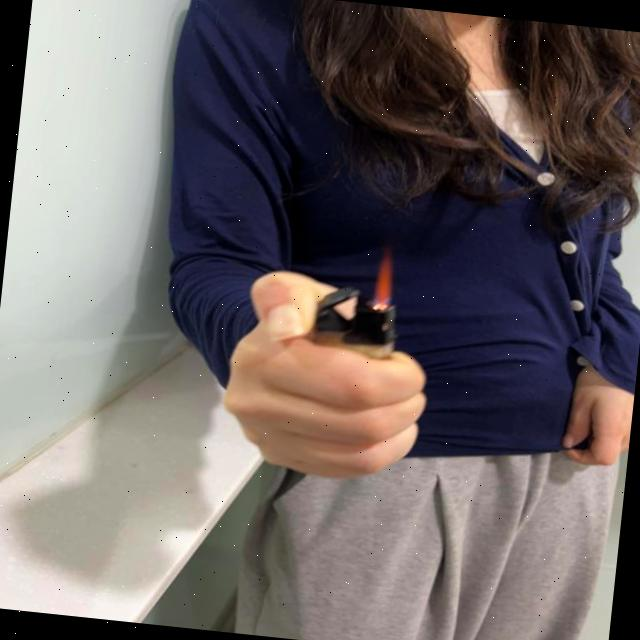fire: (372, 248, 397, 313)
